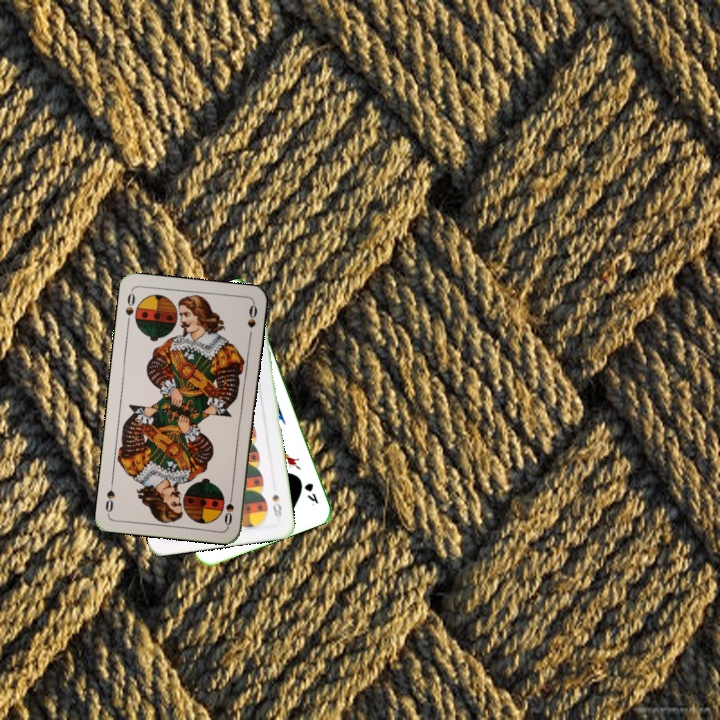GK: (300, 479, 321, 508)
S8: (268, 490, 284, 521)
SO: (122, 287, 138, 328), (220, 488, 236, 528)
